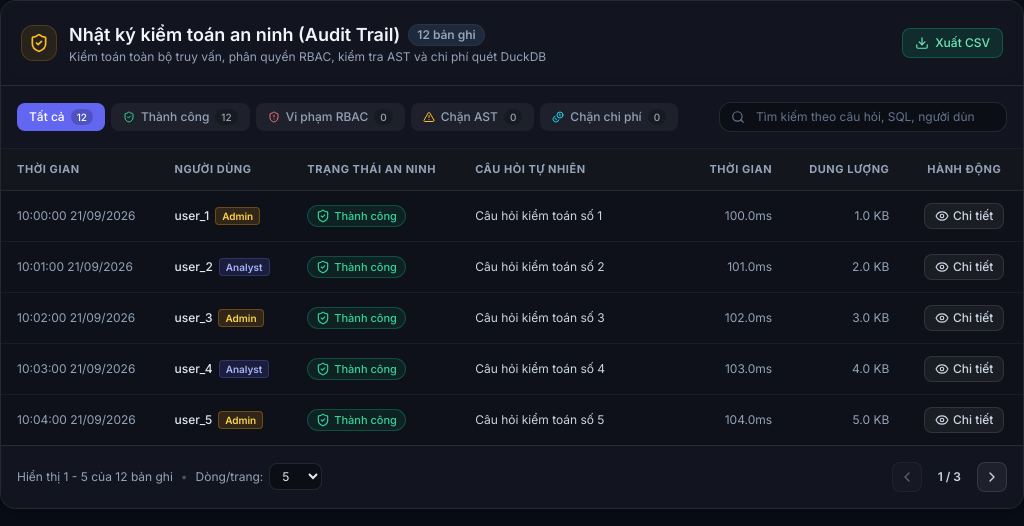
Component 5.1: AuditTable (Admin Audit Table) › 5. Phân trang (Pagination) hoạt động chính xác khi có nhiều bản ghi
Expected: the text "Hiển thị 1 - 5 của 12 bản ghi" is shown, [17,468,173,484]
Expected: the text "Câu hỏi kiểm toán số 1" is shown, [459,190,689,241]
// Bấm nút Trang sau
Click the button named "Trang sau" at (992, 476), box [977,462,1007,492]
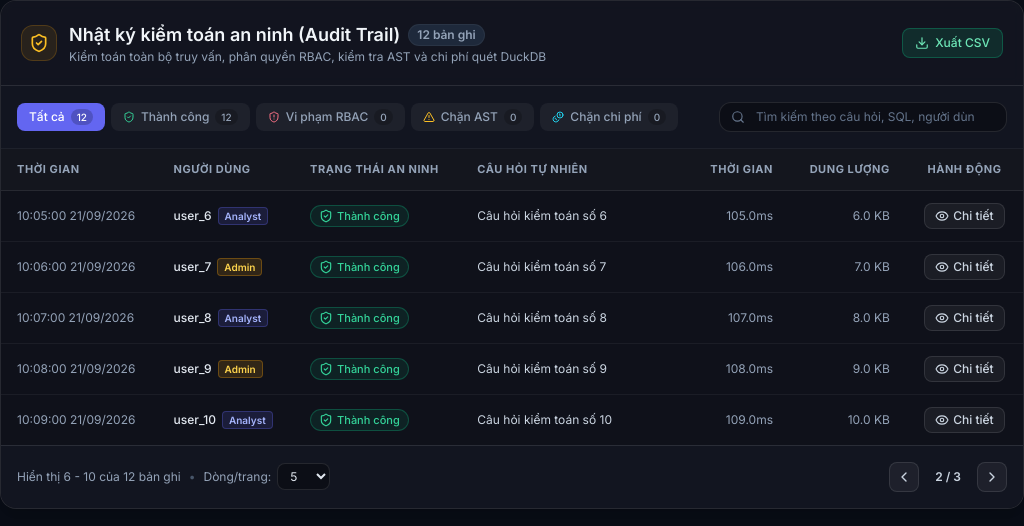
Expected: the text "Hiển thị 6 - 10 của 12 bản ghi" is shown, [17,468,181,484]
Expected: the text "Câu hỏi kiểm toán số 6" is shown, [461,190,690,241]
